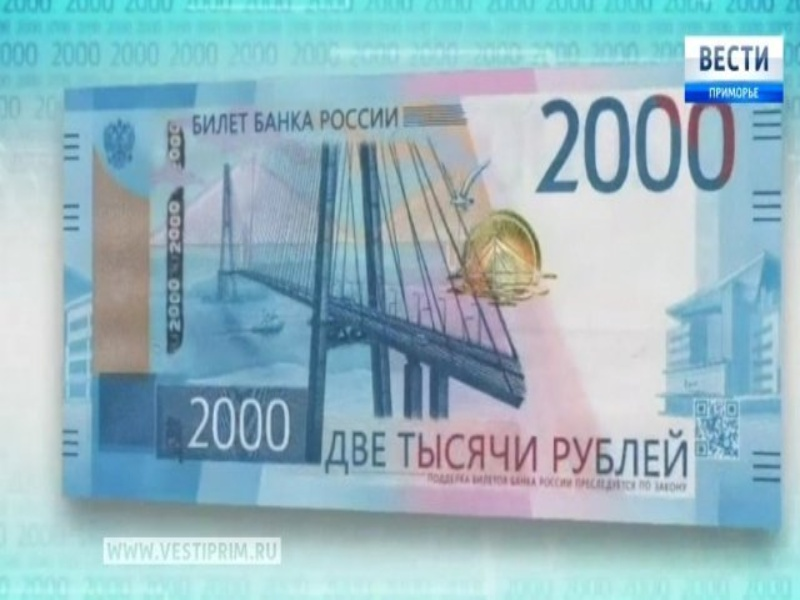cash: (63, 59, 782, 537)
